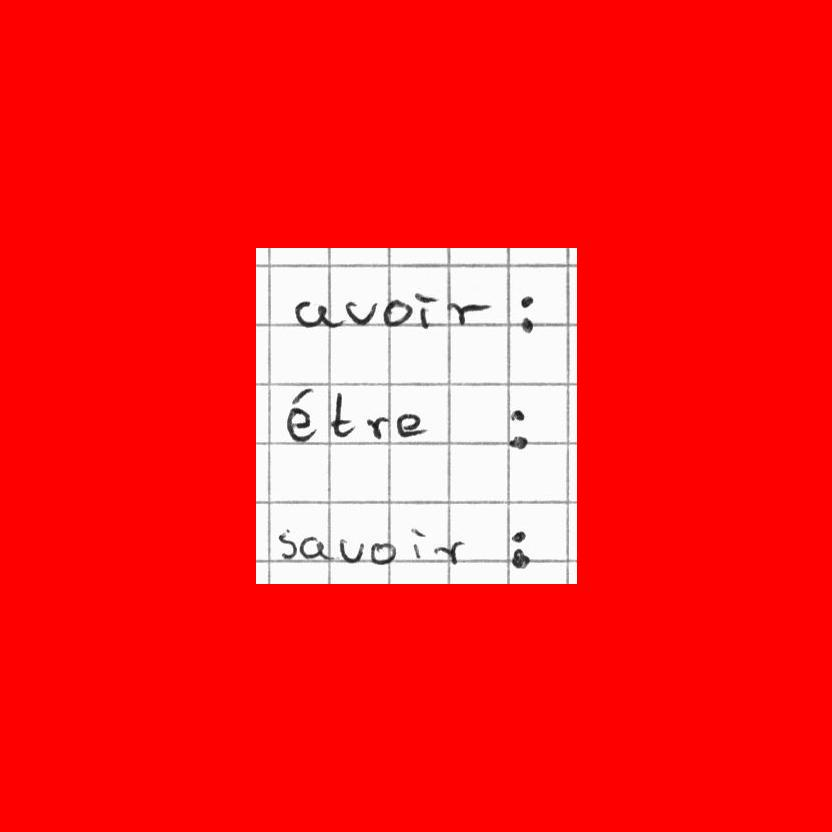Char: (285, 386, 319, 442), (293, 295, 338, 330), (444, 296, 489, 328), (329, 391, 357, 439), (507, 403, 531, 452), (508, 527, 531, 572), (432, 537, 465, 568), (344, 296, 375, 327), (414, 290, 436, 332), (516, 290, 535, 335), (395, 412, 426, 437), (383, 298, 410, 326), (408, 526, 428, 563), (364, 412, 390, 440), (337, 536, 363, 563), (369, 540, 394, 566), (299, 536, 327, 559), (278, 528, 296, 562)
